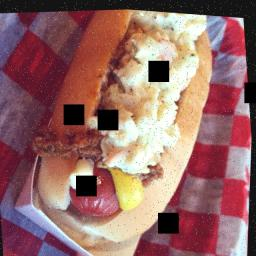hotdog: (9, 1, 240, 253)
